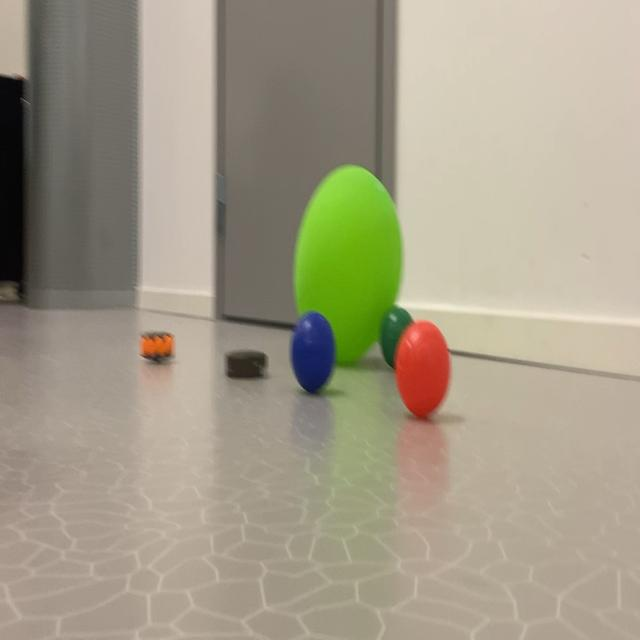7: (394, 319, 455, 435)
green ball: (288, 305, 343, 412)
red ball: (370, 293, 416, 372)
